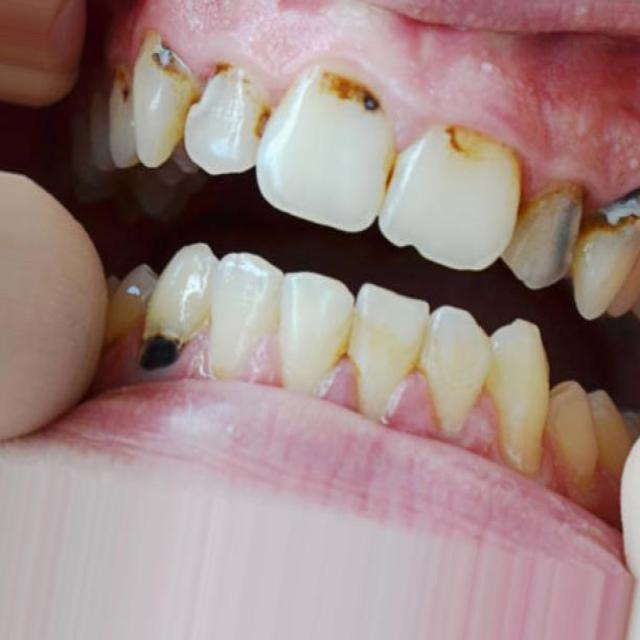caries: (117, 316, 212, 400), (208, 54, 282, 148), (302, 62, 396, 132), (439, 116, 523, 172), (140, 30, 203, 90), (586, 186, 640, 240), (106, 54, 148, 119)
